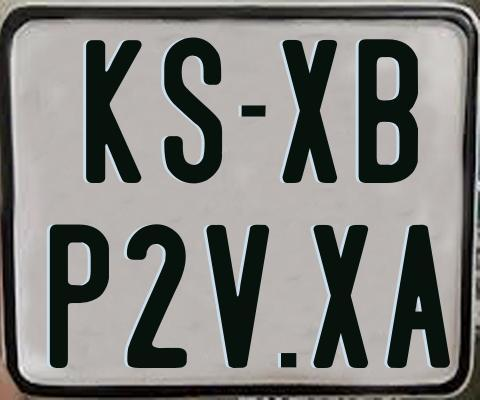2: (127, 221, 192, 369)
A: (384, 224, 450, 372)
B: (357, 37, 421, 183)
K: (85, 40, 141, 184)
P: (47, 221, 108, 368)
S: (162, 36, 225, 185)
V: (206, 224, 275, 369)
X: (280, 39, 338, 184), (311, 222, 368, 365)
